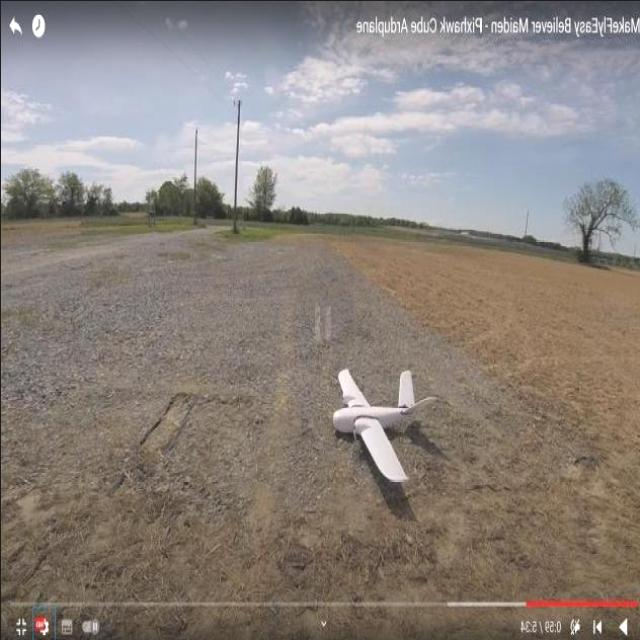plane: (330, 365, 438, 481)
